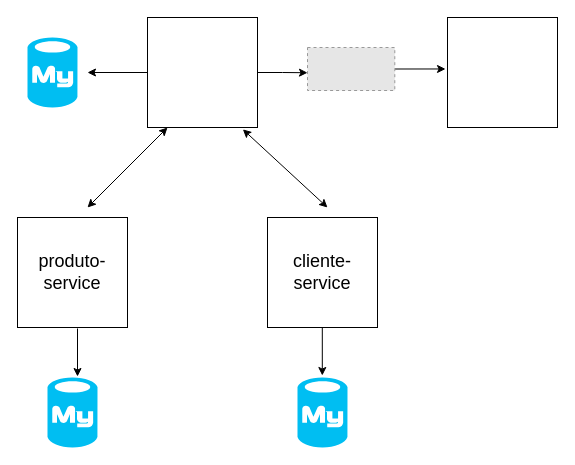
The diagram is 575 pixels wide and 465 high, and some of its shapes have lost their labels. Grey dashed boxes stand in for pictures. Here are the shapes that lost their labels. From the top down, the centre of each, then its label:
At (202,72): "pedido-service".
At (502,72): "pagamento-service".
